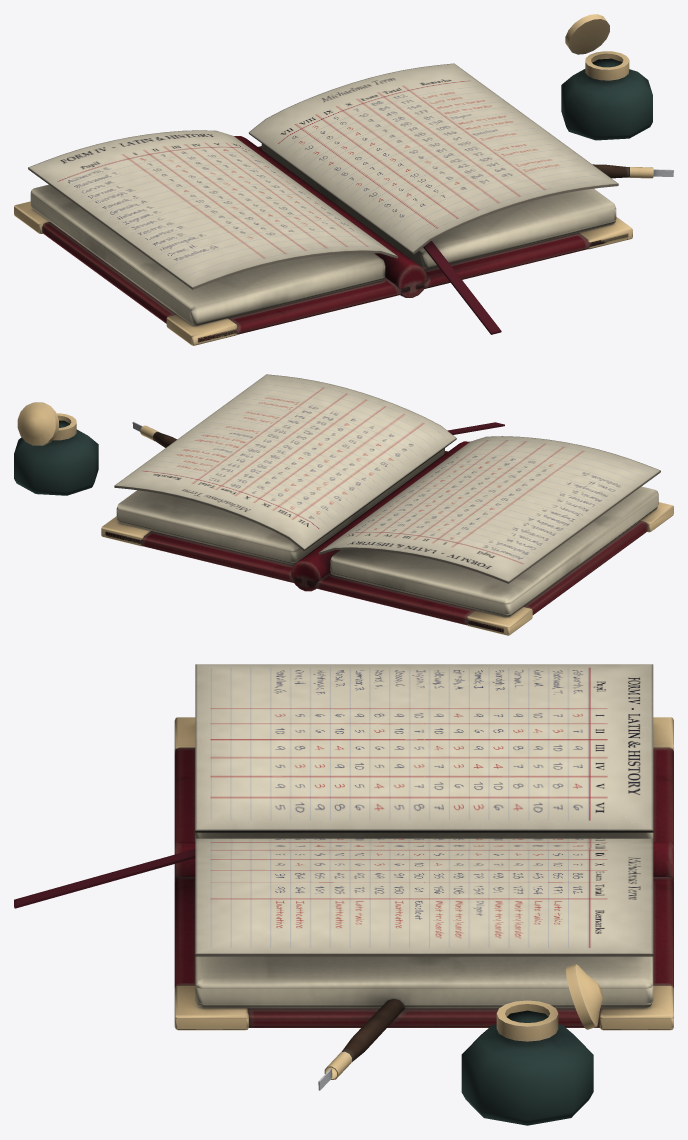
The model's file is Gradebook.fbx.
3 views of the same model, one above another, from view 1: azimuth 30°, elevation 25°; view 2: azimuth 150°, elevation 25°; view 3: azimuth 270°, elevation 25° (orthographic). The views are drawn at different scales.
Visible parts, largest first — view 1: Gradebook; view 2: Gradebook; view 3: Gradebook.
Part boxes in pixels (x1,y1,x2,y2): Gradebook: (14, 14, 673, 345); Gradebook: (14, 374, 673, 635); Gradebook: (14, 664, 673, 1125).
Size of the model in its own units: 227 by 37.37 by 160.
